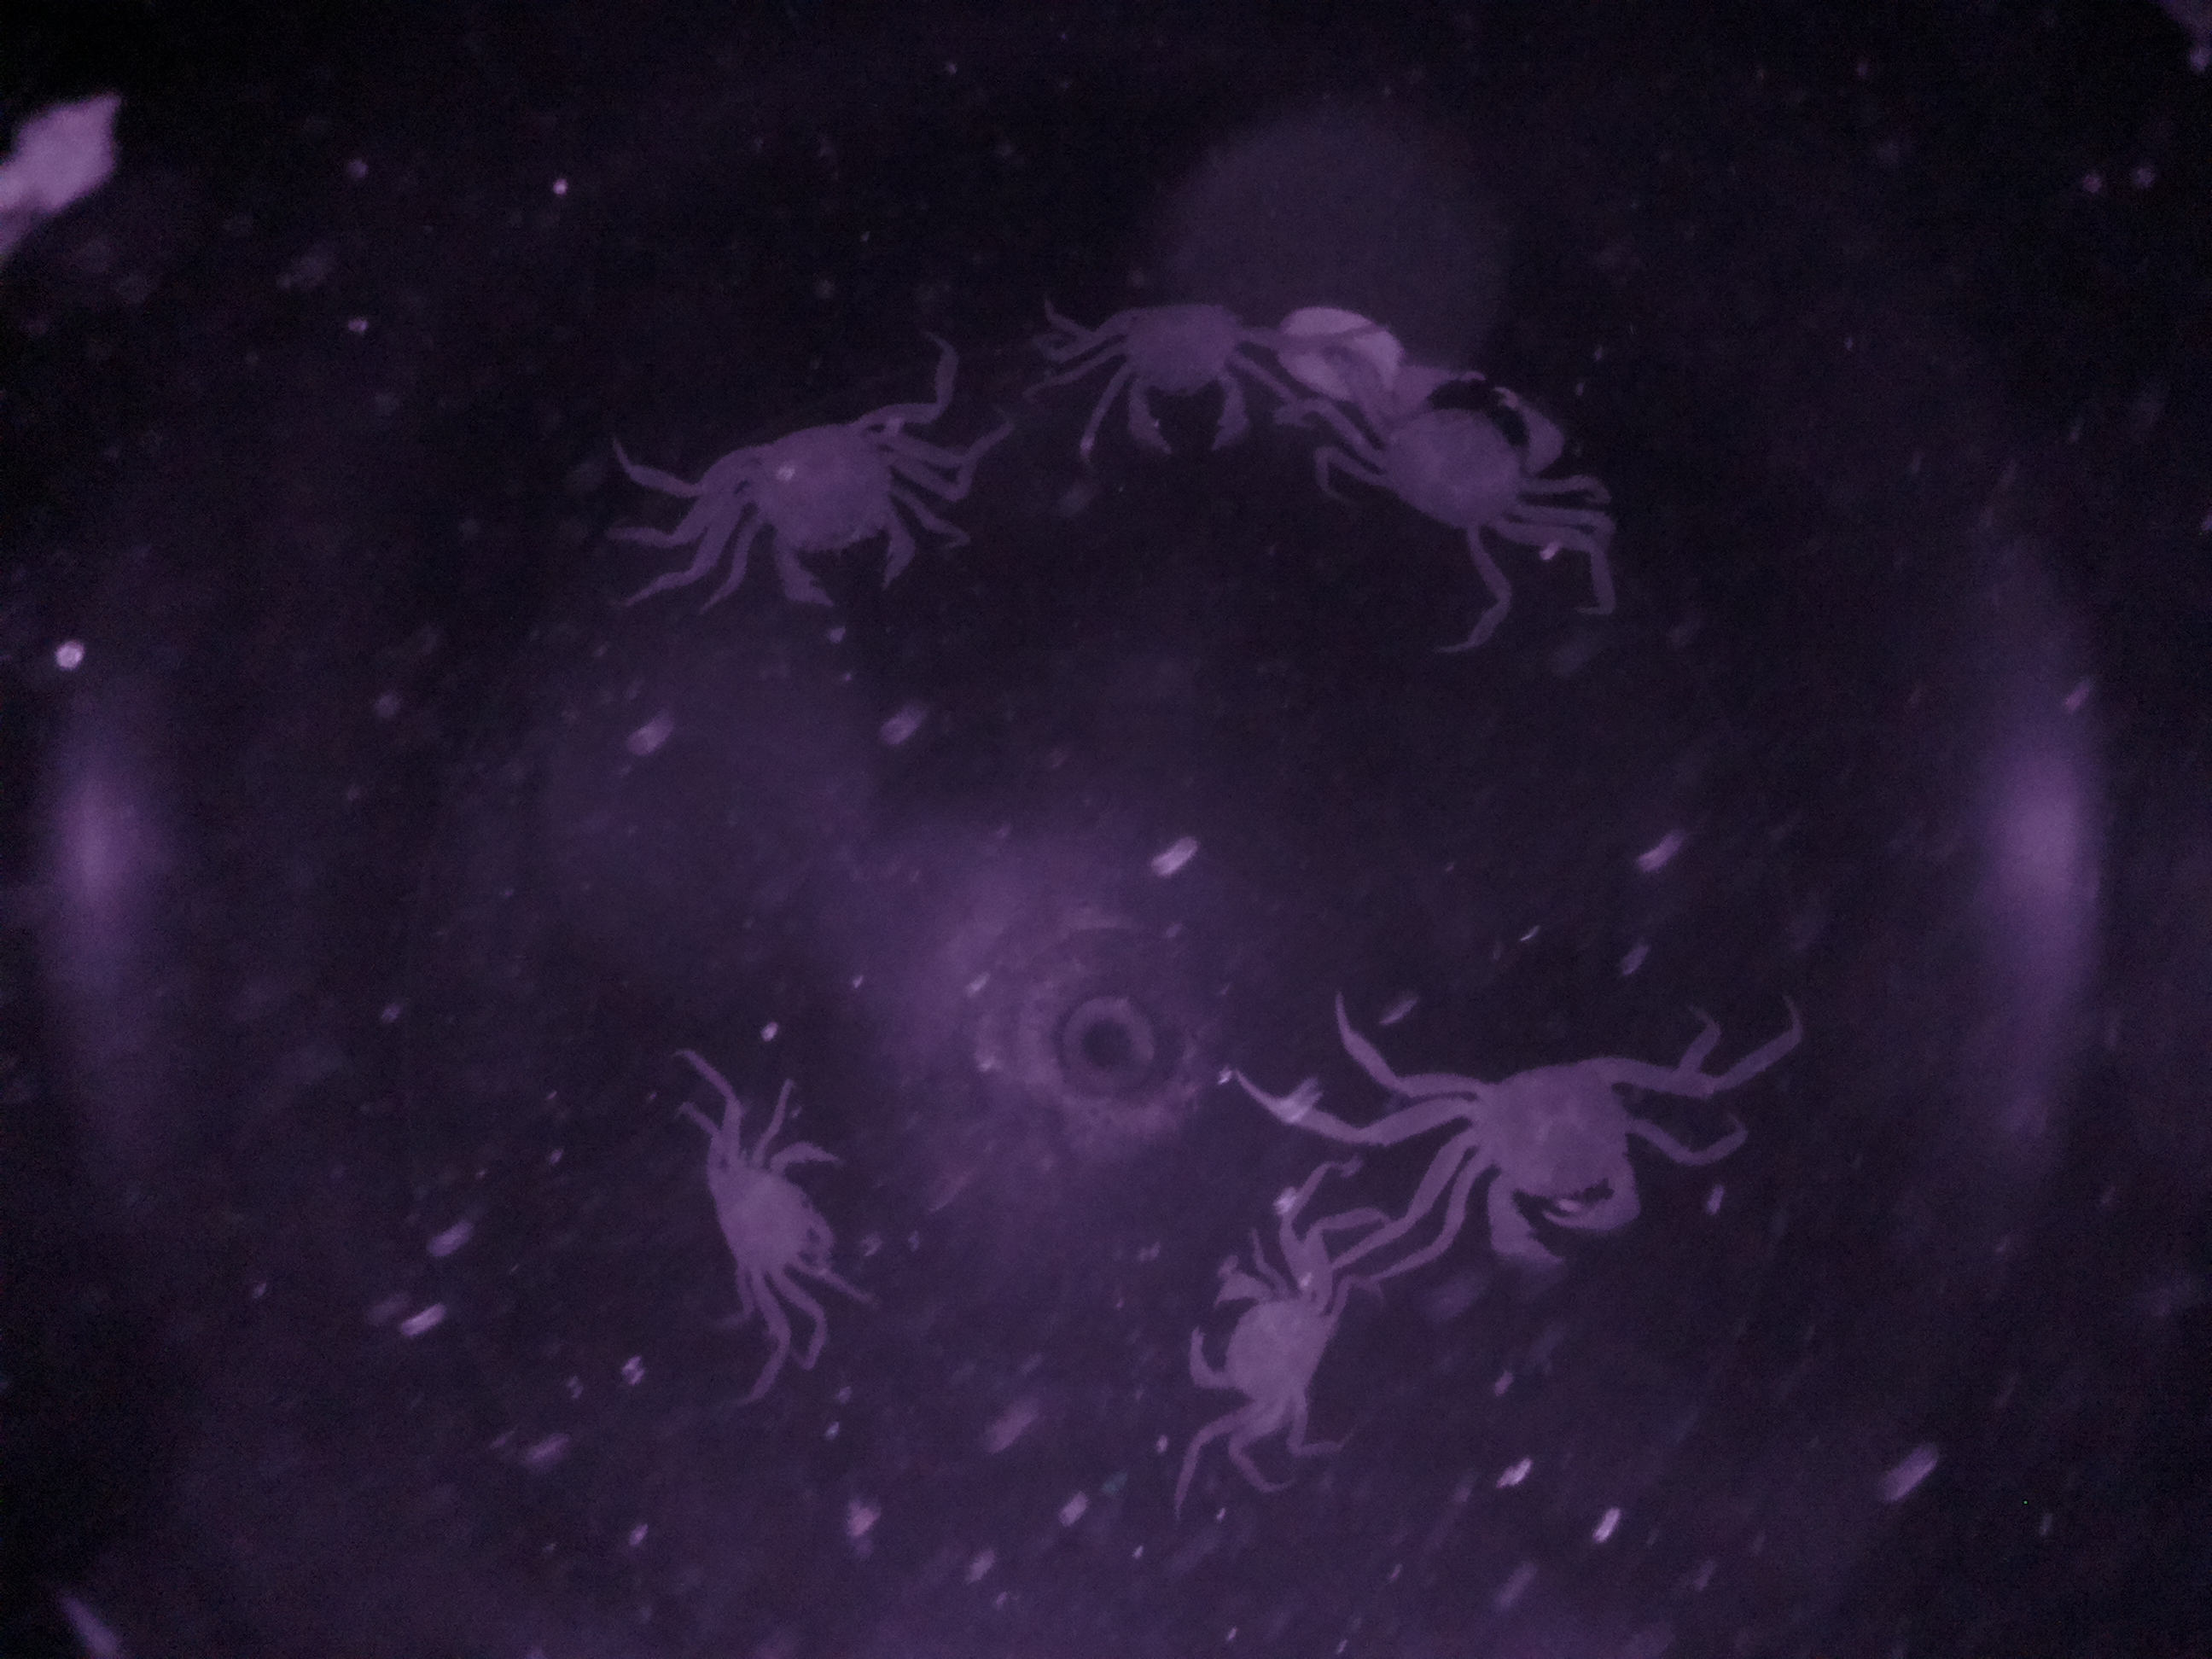Crab: (681, 376, 974, 641), (1416, 1030, 1695, 1284), (1312, 347, 1611, 558), (1055, 274, 1292, 469), (1155, 1237, 1360, 1457), (671, 1105, 876, 1323)
